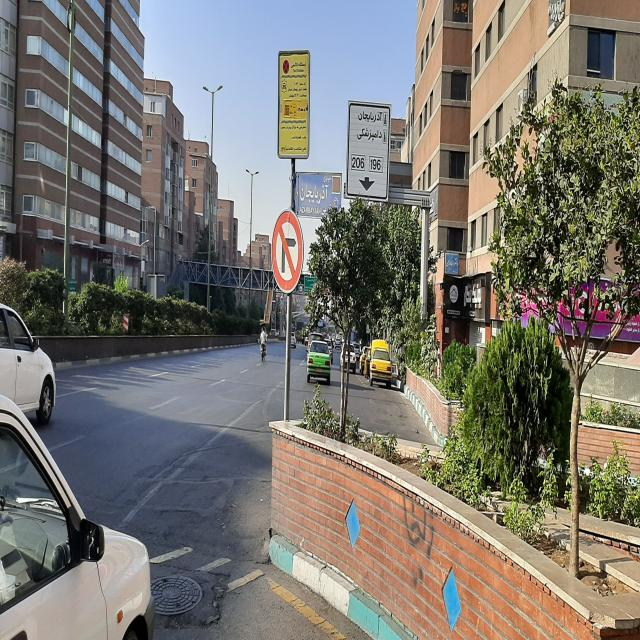no right turn: (266, 210, 306, 298)
